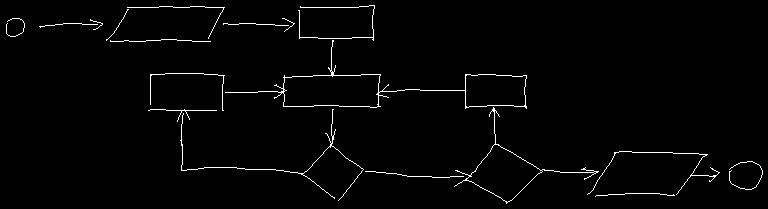arrow: (177, 109, 302, 173), (365, 170, 471, 186), (376, 84, 465, 97), (223, 18, 294, 31), (225, 84, 286, 98), (542, 167, 598, 179), (39, 19, 102, 29), (690, 167, 719, 181), (489, 107, 499, 143), (325, 109, 335, 144), (328, 40, 335, 76)
connection: (729, 161, 762, 189), (6, 18, 24, 36)
data: (587, 151, 707, 196), (106, 6, 224, 41)
decision: (465, 144, 542, 203), (301, 144, 363, 200)
process: (283, 74, 380, 107), (148, 73, 224, 110), (298, 5, 374, 40), (465, 74, 526, 108)
